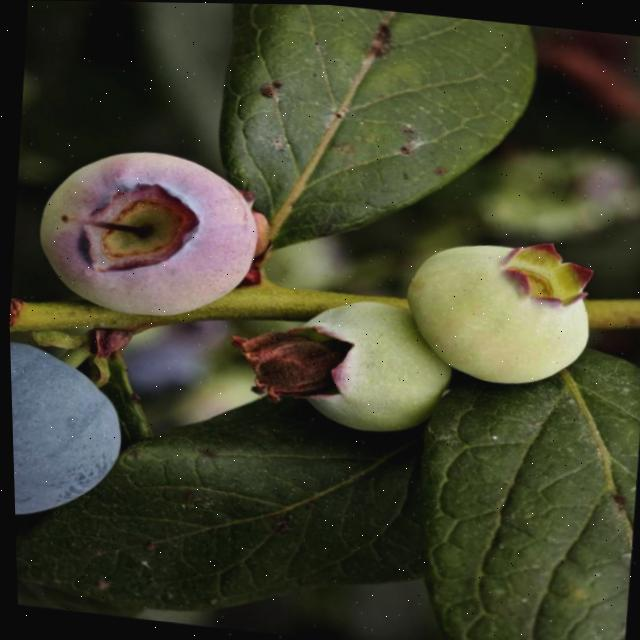RipeBlueBerry: (8, 328, 143, 533)
Semi-RipeBlueBerry: (14, 129, 277, 342)
UnripeBlueBerry: (386, 217, 610, 403)
